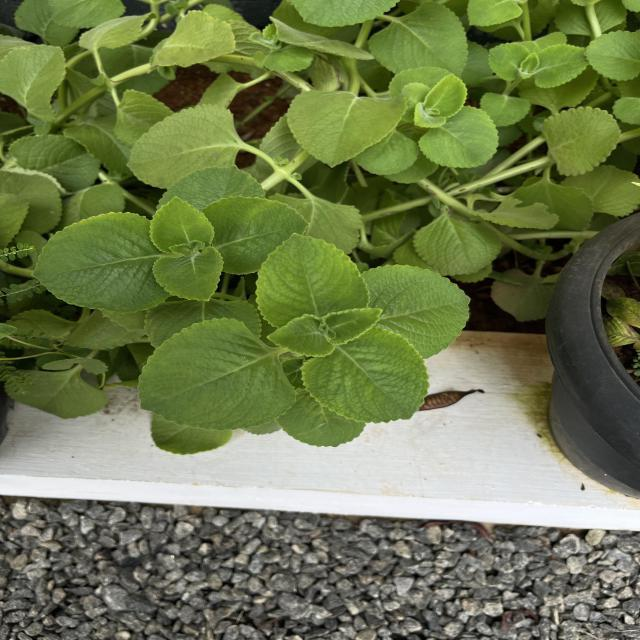Plectranthus barbatus: (135, 317, 298, 433), (300, 325, 430, 424), (30, 210, 152, 314), (254, 232, 371, 330), (360, 264, 472, 359), (125, 102, 242, 190), (284, 88, 408, 169), (204, 195, 312, 276), (367, 1, 469, 78), (539, 105, 622, 178), (412, 214, 502, 277), (416, 105, 501, 168), (151, 245, 225, 302), (148, 196, 216, 254), (266, 314, 336, 358), (582, 29, 640, 82), (354, 130, 420, 176), (320, 306, 384, 346), (535, 43, 588, 89), (487, 42, 530, 82)
